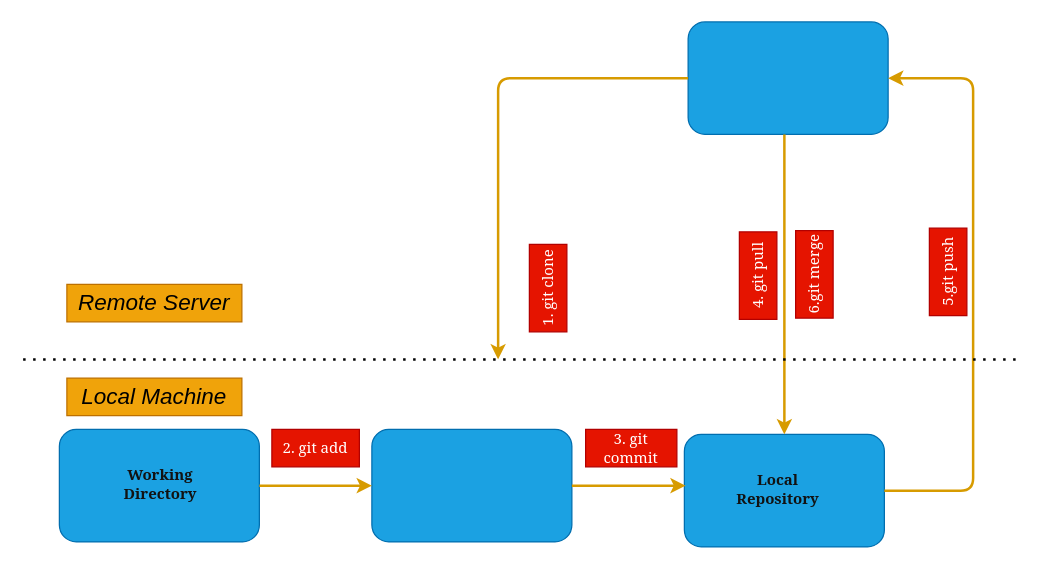
The diagram is 1046 pixels wide and 569 high, and some of its shapes have lost their labels. Each missing label, with the centre of its shape:
Remote Repository: point 787,77
Staging Area: point 471,485
